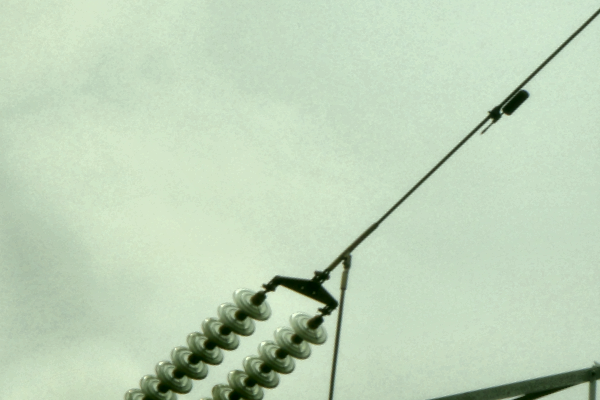damper_defect: (477, 88, 530, 137)
